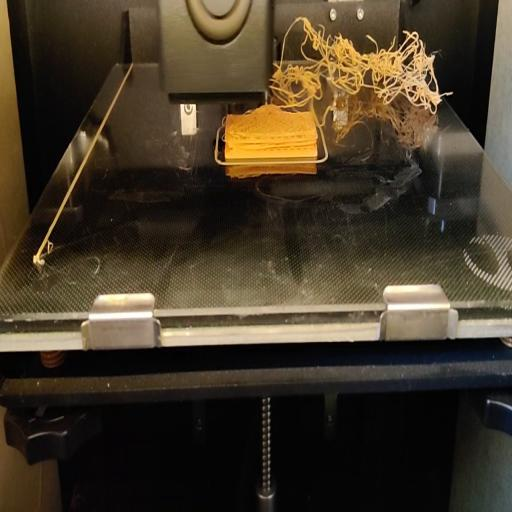spaghetti: (272, 15, 452, 129)
